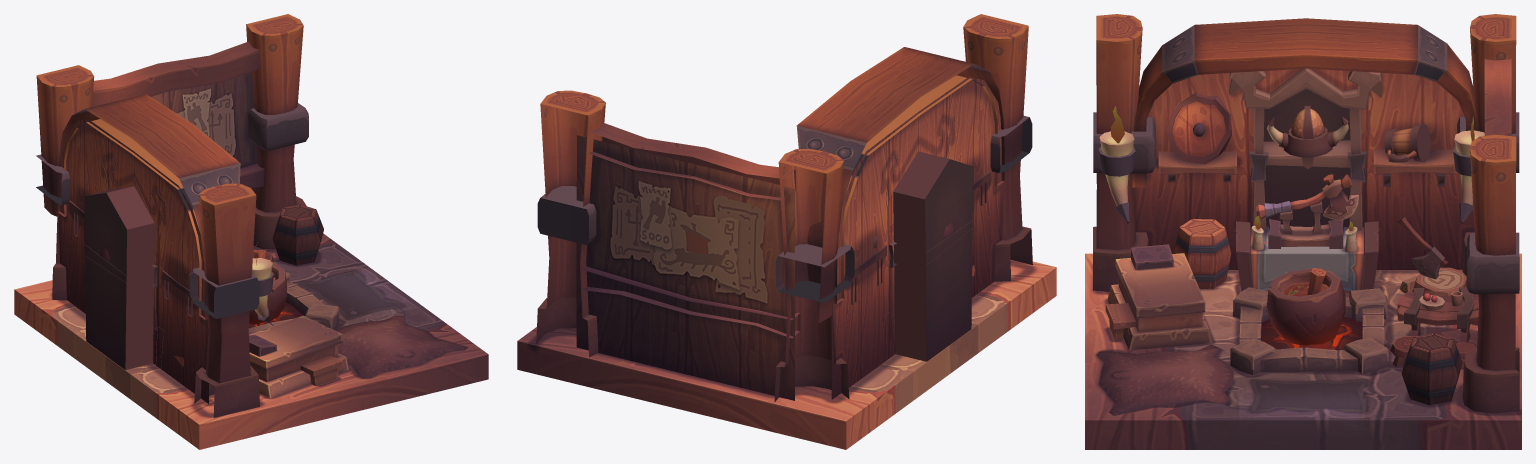
The model's file is viking_room.obj.
3 renders of one model, left to right at view 1: azimuth 30°, elevation 25°; view 2: azimuth 150°, elevation 25°; view 3: azimuth 270°, elevation 25°, orthographic. The views are drawn at different scales.
Parts seen in each view (by area): view 1: mesh_all1_Texture1_0; view 2: mesh_all1_Texture1_0; view 3: mesh_all1_Texture1_0.
Part boxes in pixels (x1=…): mesh_all1_Texture1_0: x1=14, y1=14, x2=488, y2=449; mesh_all1_Texture1_0: x1=517, y1=14, x2=1056, y2=449; mesh_all1_Texture1_0: x1=1085, y1=14, x2=1521, y2=449.
Bounding box in the file's own units: 1.33 × 1.03 × 1.46.
1 material, 1 textured.
